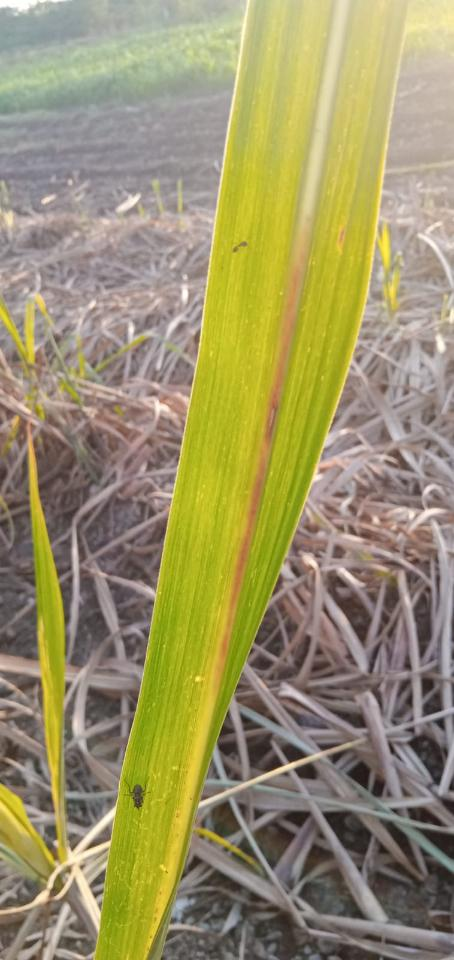RedRot: (212, 215, 313, 696), (338, 226, 346, 251)
